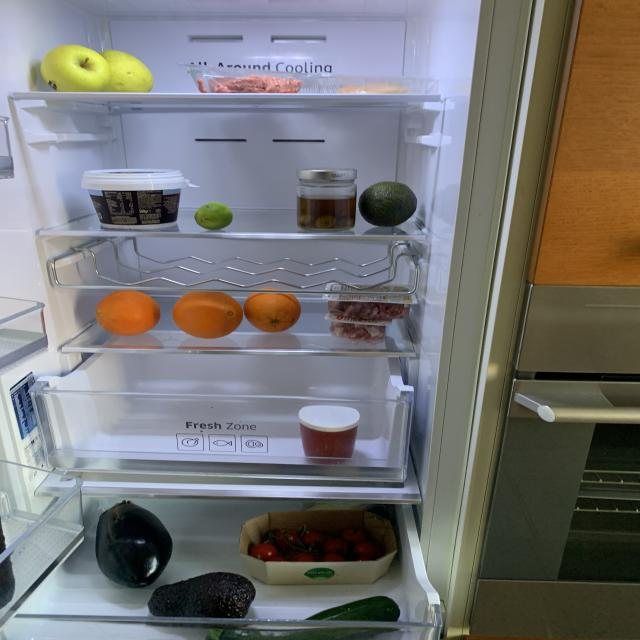apples: (39, 44, 154, 91)
aubergine: (91, 495, 171, 586)
avocado: (148, 570, 256, 624), (358, 182, 417, 228)
bacon: (329, 300, 410, 319), (332, 321, 385, 342)
cherry_tomato: (250, 521, 385, 560)
chicken_breast: (338, 83, 413, 93)
courgettes: (209, 595, 398, 640)
ground_beef: (196, 74, 302, 92)
lime: (196, 204, 232, 230)
olives: (295, 194, 355, 229)
orange: (91, 290, 163, 336), (172, 289, 239, 336), (246, 287, 299, 331)
tomato_sauce: (300, 421, 357, 458)
yoghurt: (81, 169, 188, 227)
